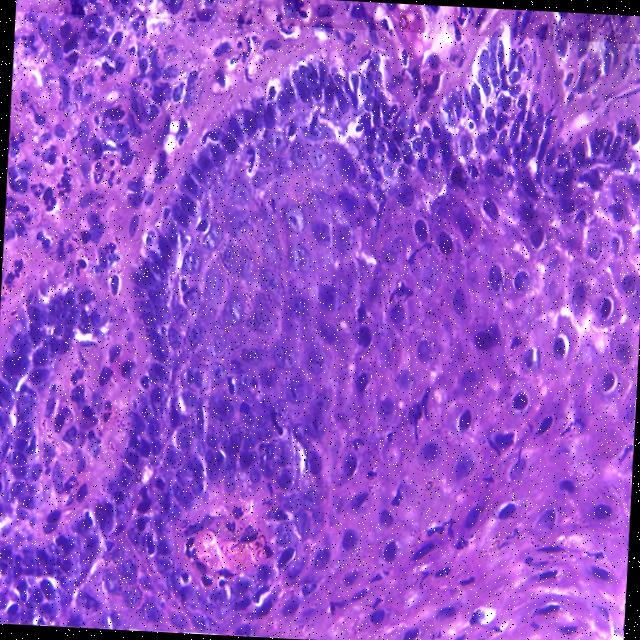Nuclear Hyperchromatism: (0, 37, 640, 625)
